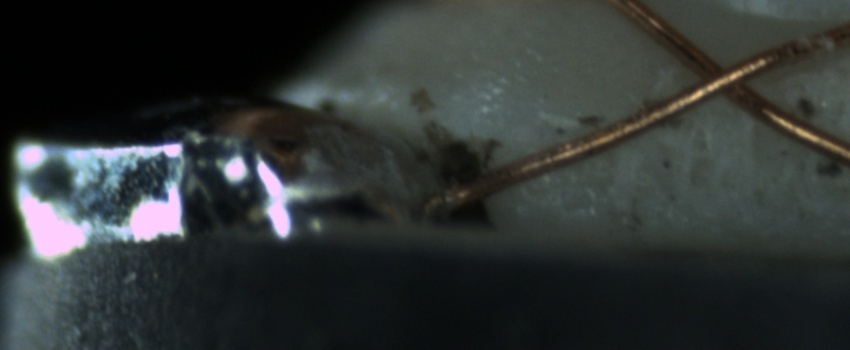CL: (677, 41, 775, 112)
